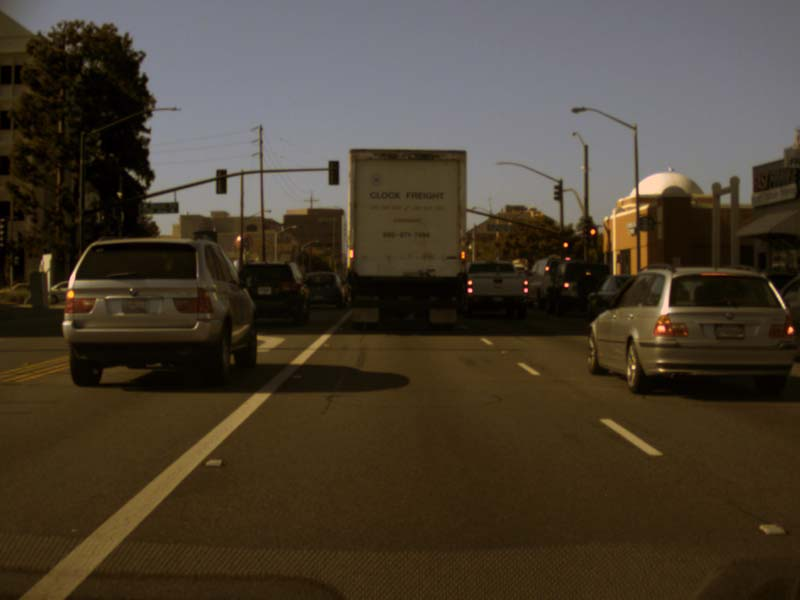Red: (588, 226, 598, 247), (560, 238, 571, 252)
